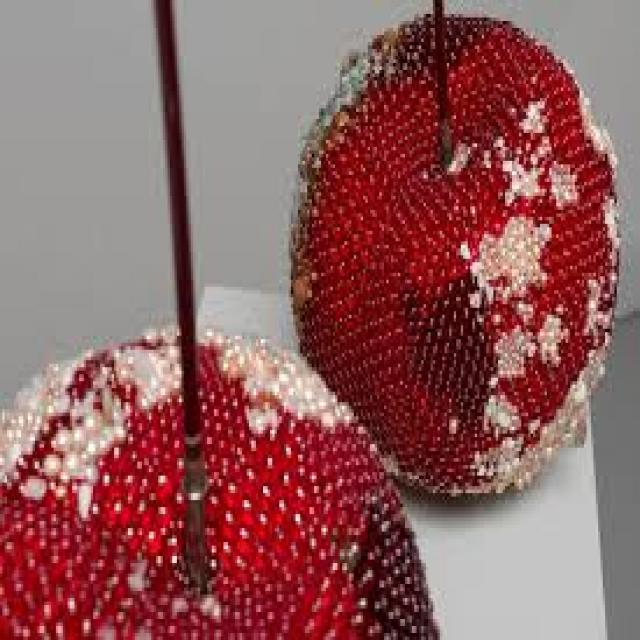organic waste: (286, 0, 617, 497), (0, 315, 438, 636)
